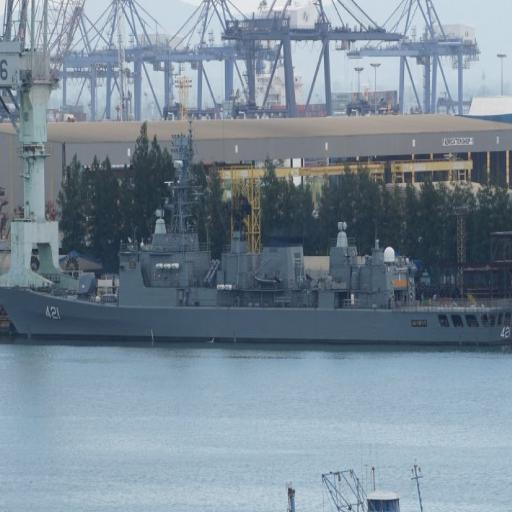Fragata: (1, 167, 512, 347)
